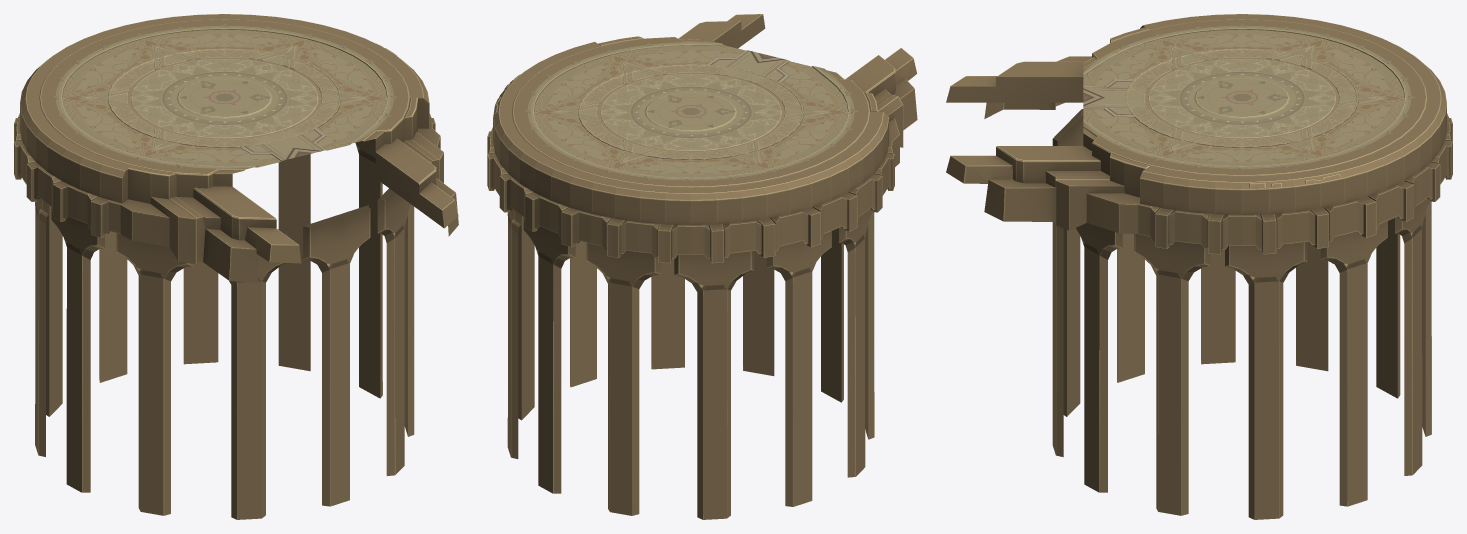
Rendered from portal01.fbx.
3 views of the same model, side by side, from view 1: azimuth 30°, elevation 25°; view 2: azimuth 150°, elevation 25°; view 3: azimuth 270°, elevation 25° (orthographic). The views are drawn at different scales.
Visible parts, largest first — view 1: Portal; view 2: Portal; view 3: Portal.
Boxes of the visible parts, x1=… form: Portal: x1=14, y1=14, x2=458, y2=519; Portal: x1=487, y1=14, x2=917, y2=519; Portal: x1=946, y1=14, x2=1452, y2=519.
Size of the model in its own units: 24.5 by 21.98 by 29.47.
1 material, 1 textured.
